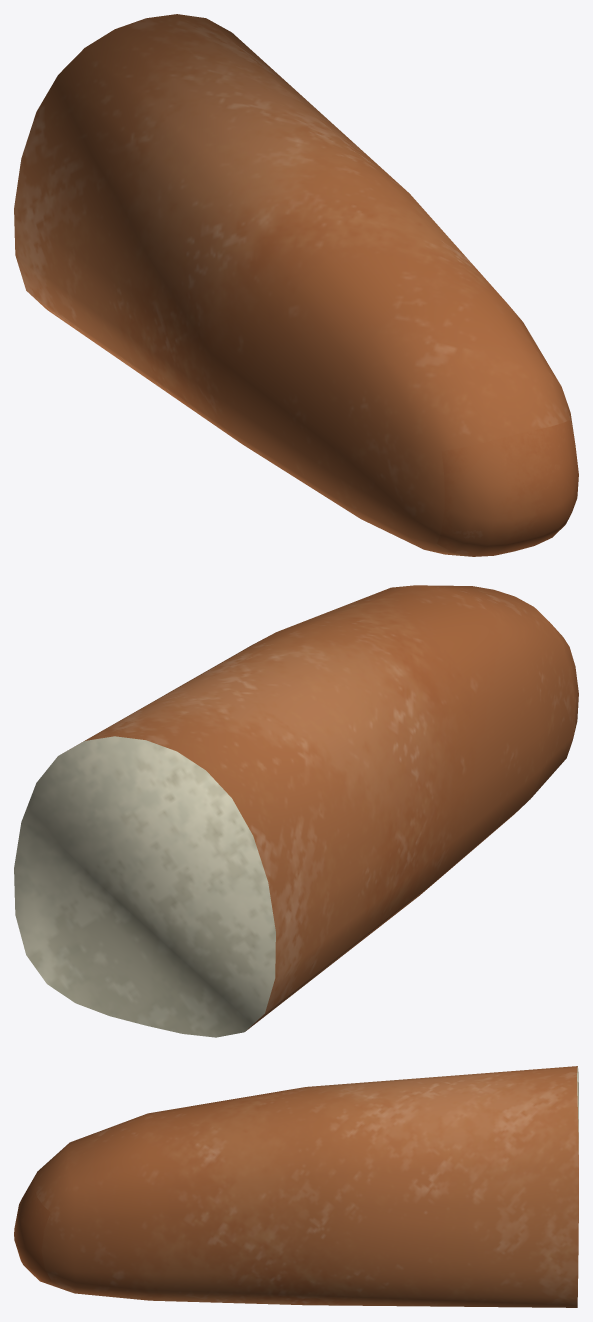
The model's file is SlicedBread.fbx.
3 renders of one model, top to bottom at view 1: azimuth 30°, elevation 25°; view 2: azimuth 150°, elevation 25°; view 3: azimuth 270°, elevation 25°, orthographic. The views are drawn at different scales.
Parts seen in each view (by area): view 1: SlicedBread; view 2: SlicedBread; view 3: SlicedBread.
Part boxes in pixels (<box>): SlicedBread: <box>14,14,578,556</box>; SlicedBread: <box>14,585,578,1037</box>; SlicedBread: <box>14,1066,578,1307</box>.
Size of the model in its own units: 2.27 by 5.8 by 2.36.
Materials: 1 (1 with a texture image).
